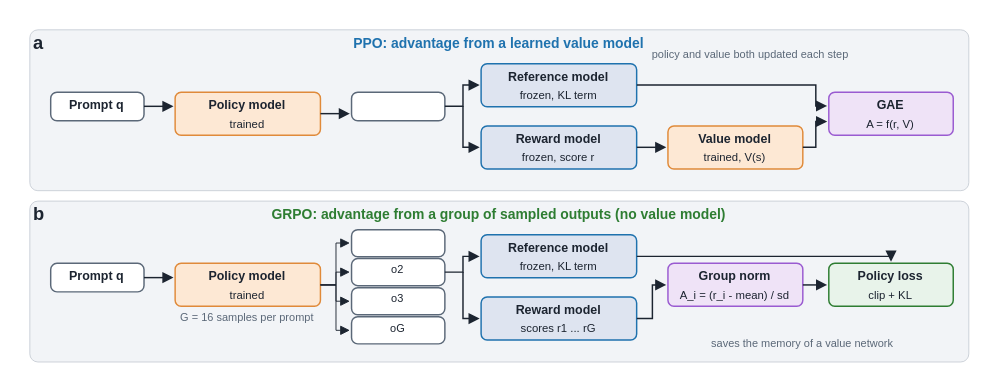
This 999x392 diagram has some shape labels left out. The shapes that lost their labels are listed below. From the top down, each one's centre as x and y in pixels, then its label:
At [397,106]: "Output o".
At [397,242]: "o1".
